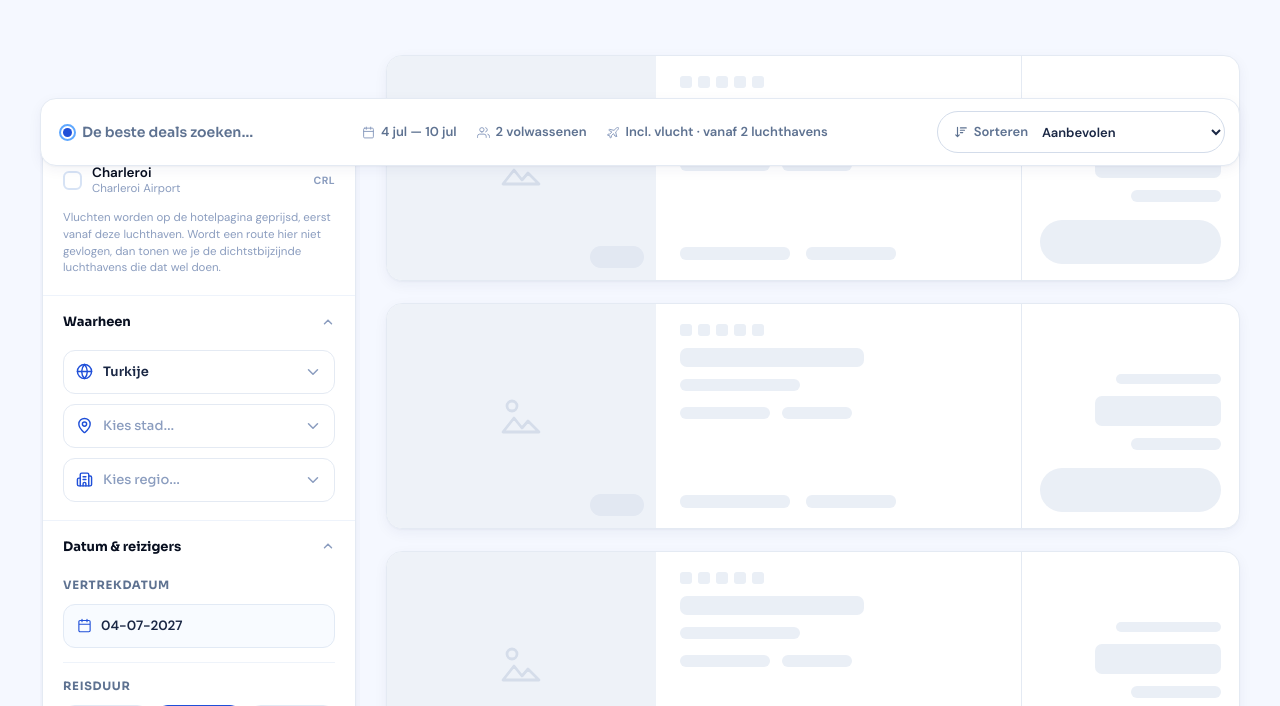
Test: Results: ask before dropping airports that clash with a new Where pick › "Keep my airports" changes nothing: no new search, both airports still ticked
(page scrolled)
expect the checkbox labelled "Brussel Brussel Airport BRU" is checked: met, box [63, 128, 82, 147]
Press the mouse on the dropdown with test id "scope-city" at [198, 426], box [103, 417, 294, 434]
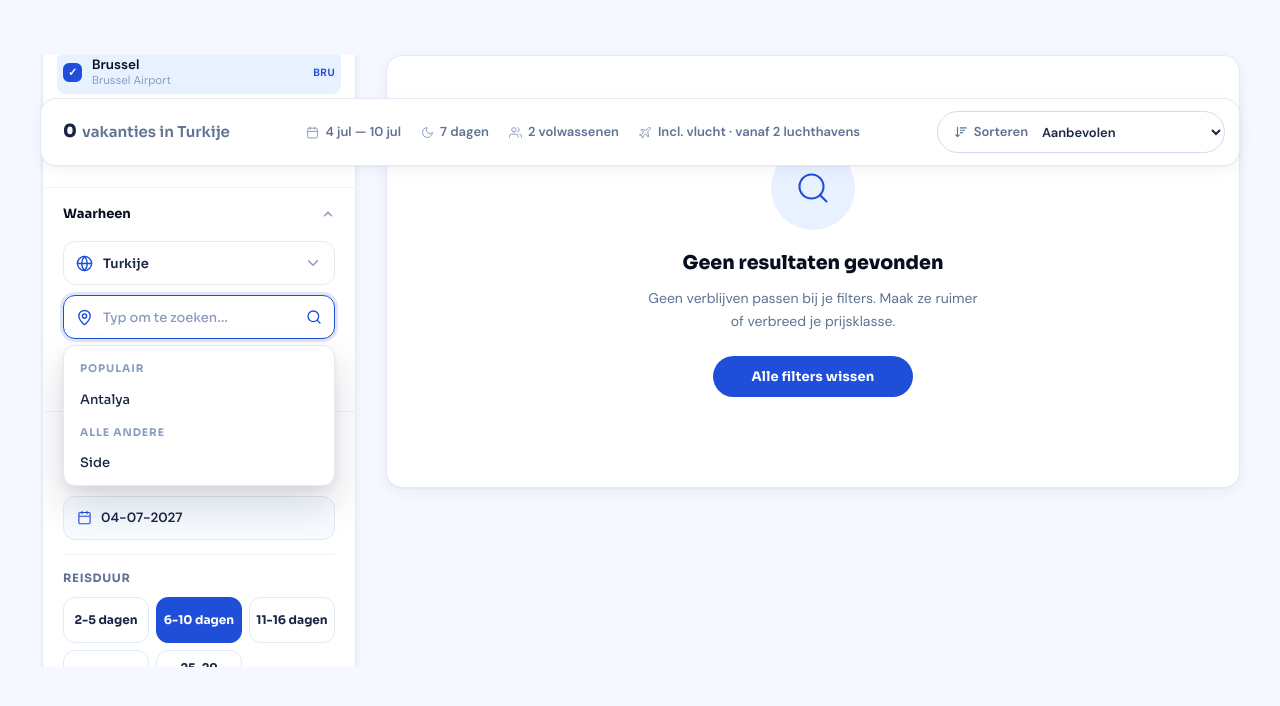
Click the option "Side" at [199, 463], box [70, 446, 328, 479]
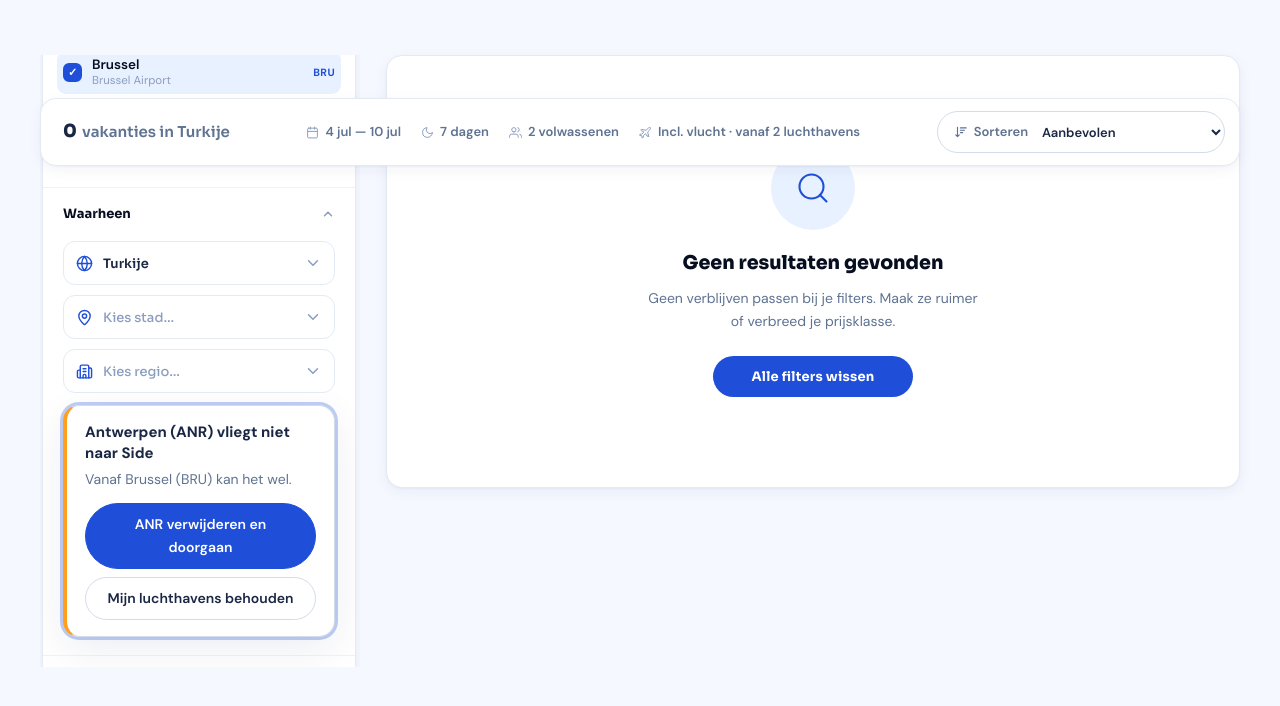
Click the button "Mijn luchthavens behouden" at [200, 599], box [85, 577, 316, 620]
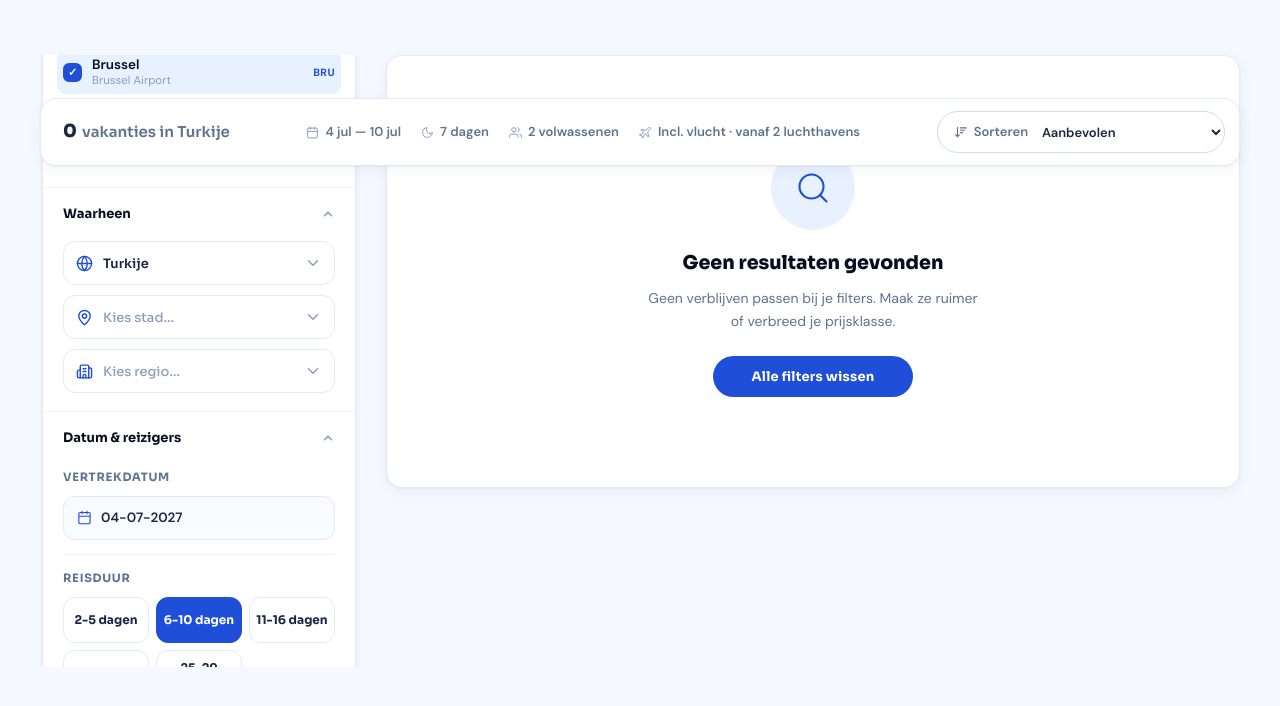
expect the checkbox labelled "Brussel Brussel Airport BRU" is checked: met, box [63, 63, 82, 82]
expect the dialog is gone: met
